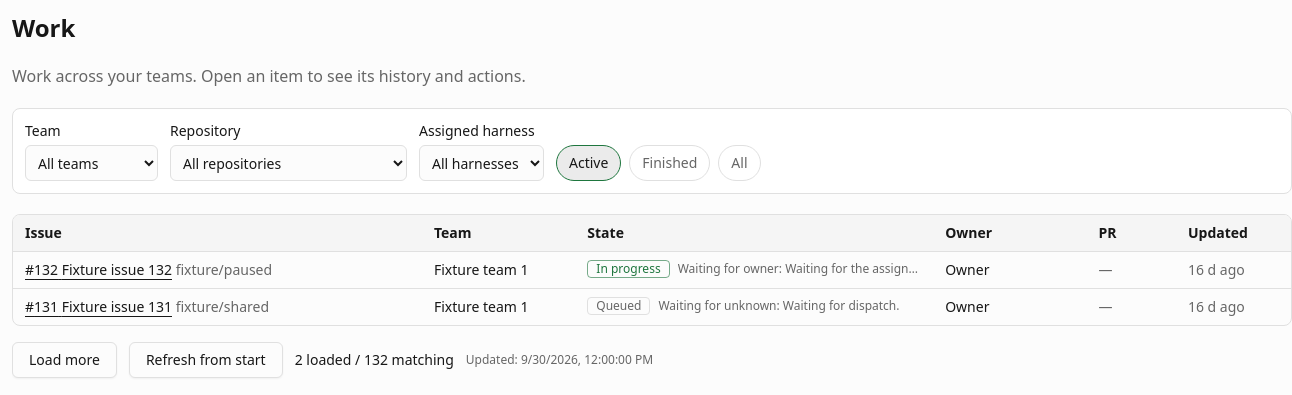
Scenario: compact Work list › defaults to active work, and Finished and All are one click away
expect the link "Reset filters" is not shown: met
What coordinates should you click on to do the following:
click the button "Finished"
I would click on:
 (670, 163)
Its box is [629,145,710,181].
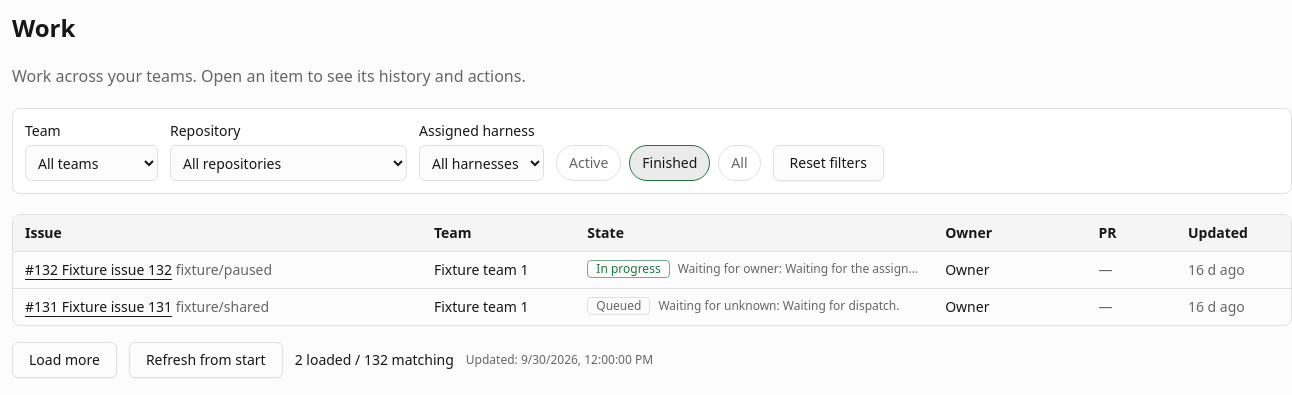
expect the button "Finished" is pressed: met, box [629,145,710,181]
What coordinates should you click on to do the following:
click the button "All"
I would click on:
 (740, 163)
Its box is [718,145,761,181].
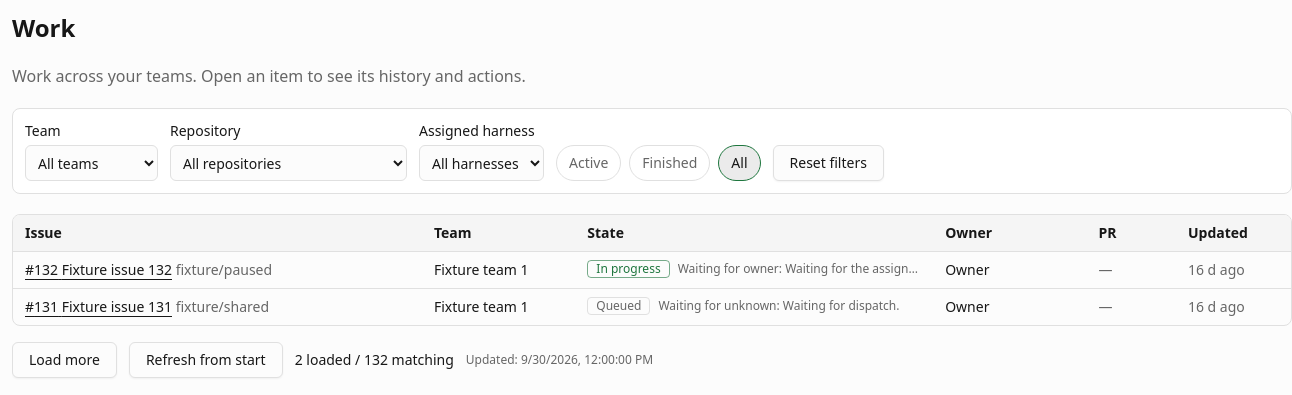
What coordinates should you click on to do the following:
click the button "Active"
I would click on:
 (589, 163)
Its box is [556,145,621,181].
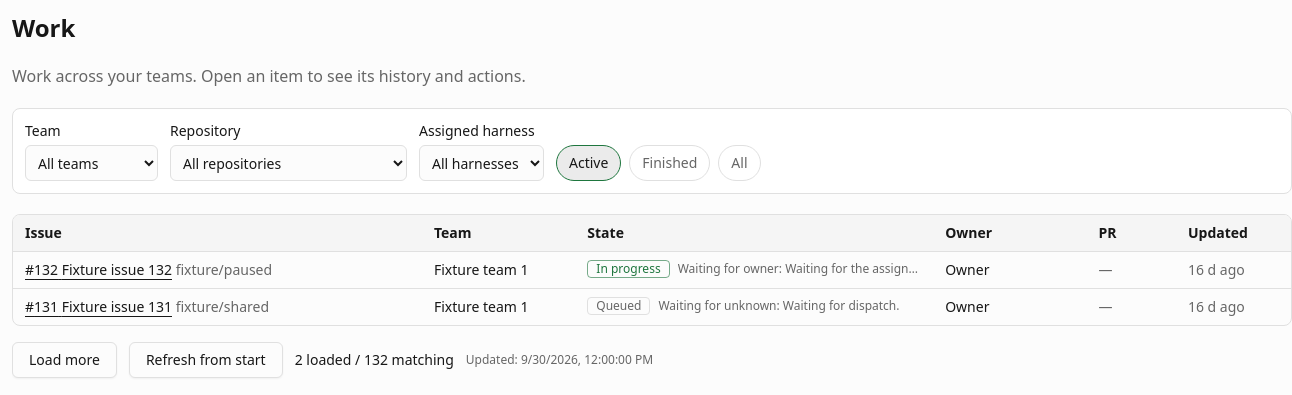
expect the link "Reset filters" is gone: met
